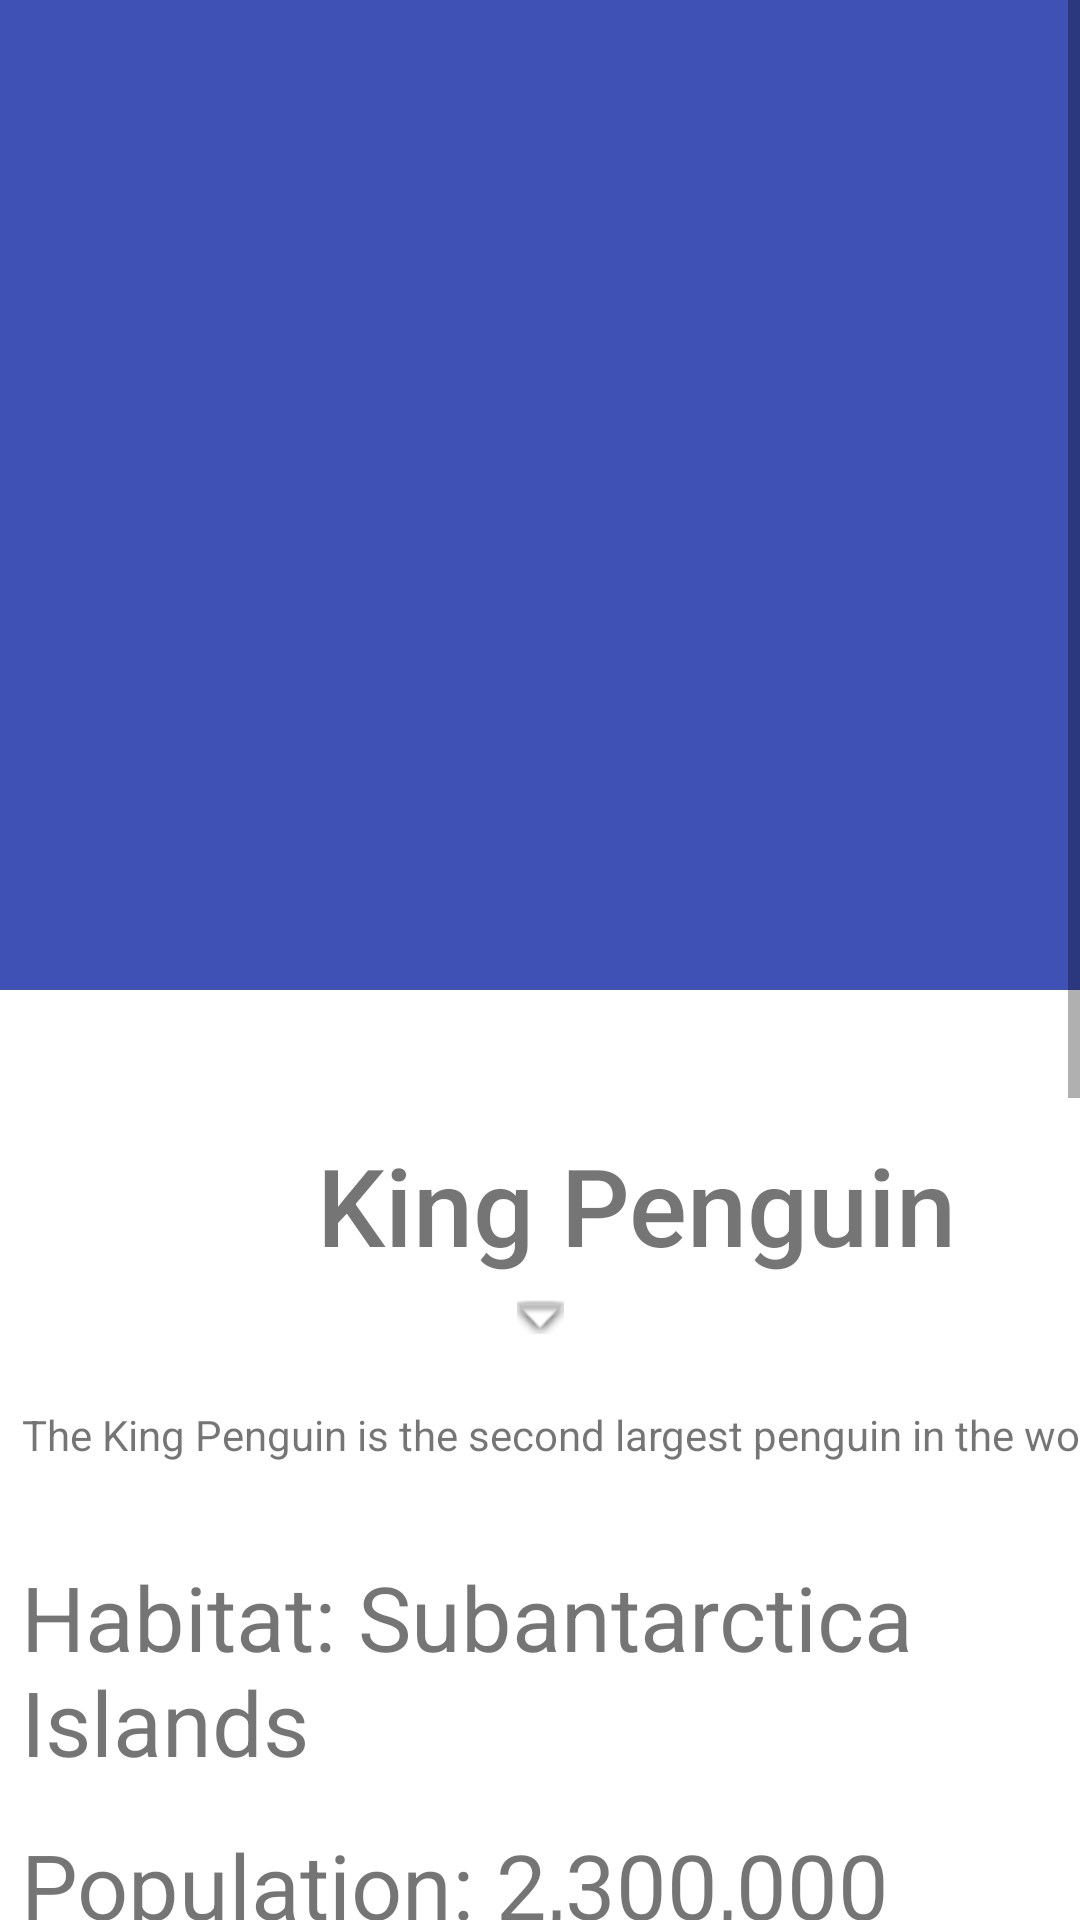

Point at icon controls on the screen. Image size 1080*1920, points as (x,y).
arrow down float: (540,1317)
